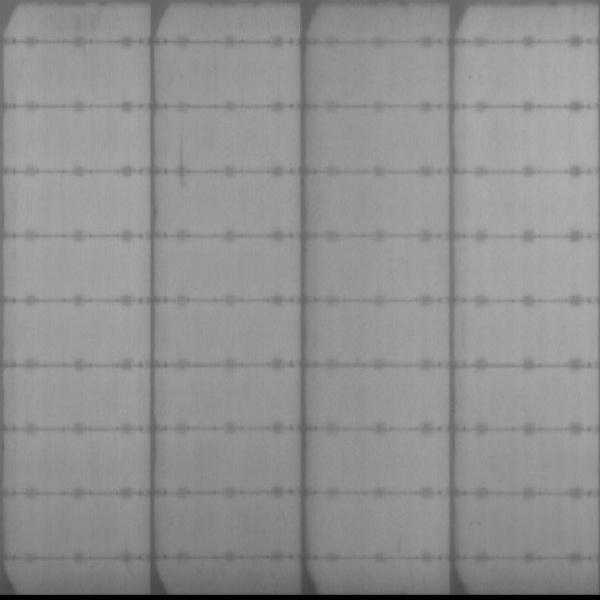scratch: (178, 122, 190, 187)
